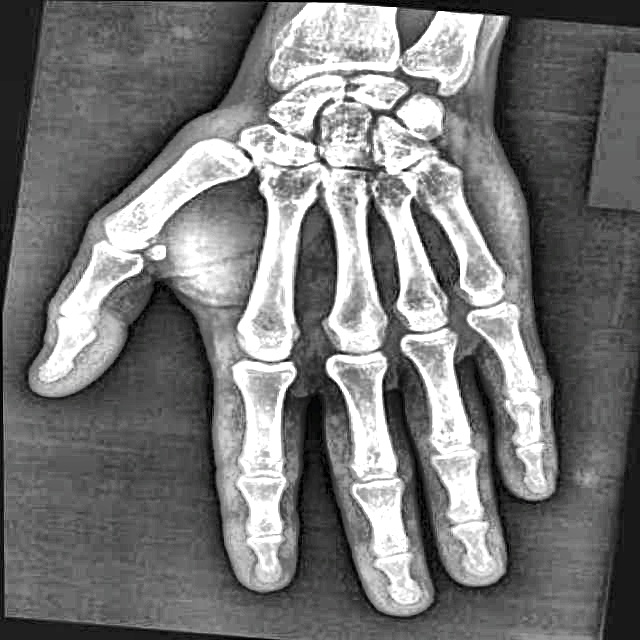Healthy: (79, 46, 580, 577)
